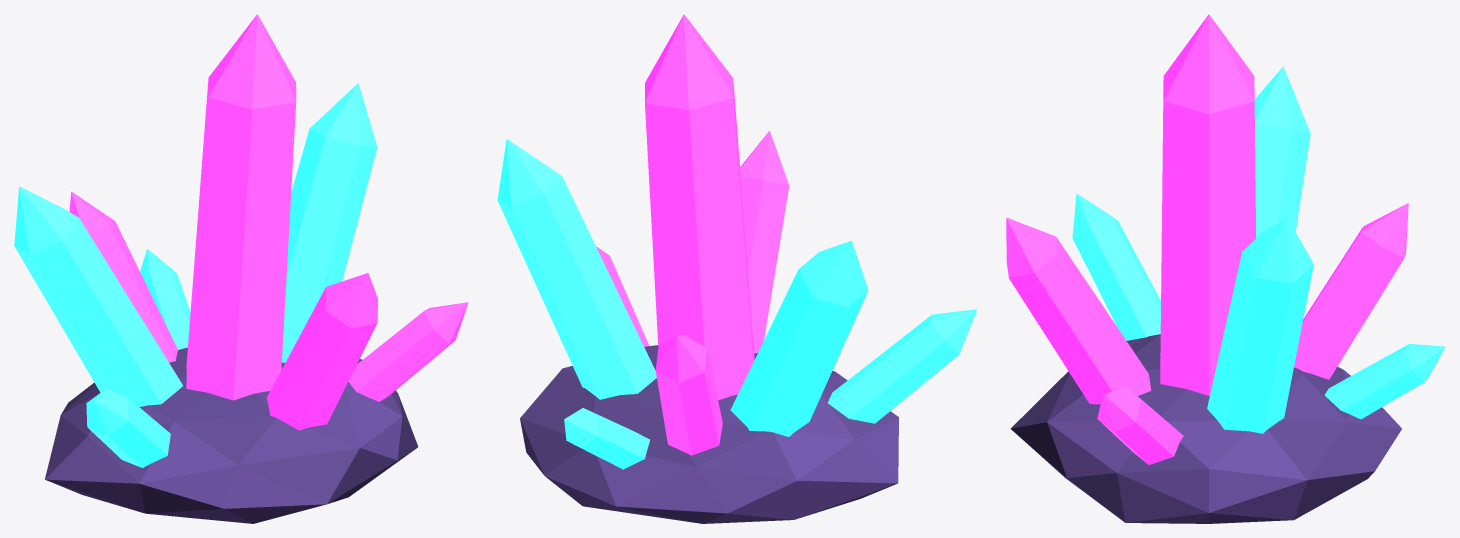
File: crystal.glb
The picture shows the model from 3 angles, left to right: view 1: azimuth 30°, elevation 25°; view 2: azimuth 150°, elevation 25°; view 3: azimuth 270°, elevation 25°; orthographic projection. The views are drawn at different scales.
Parts seen in each view (by area): view 1: Crystal; view 2: Crystal; view 3: Crystal.
Part boxes in pixels (x1,y1,x2,y2): Crystal: (14,14,468,523); Crystal: (497,14,977,523); Crystal: (1006,14,1445,523).
Size of the model in its own units: 5.85 by 6.43 by 5.55.
